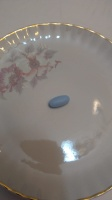Apranax: (48, 95, 71, 110)
